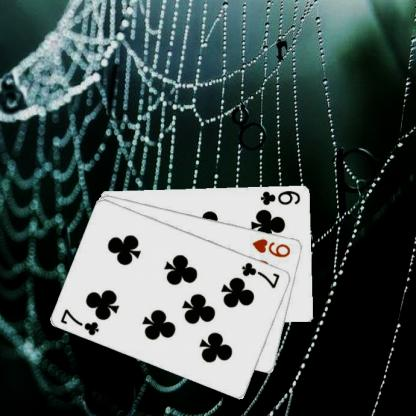6C: (258, 188, 302, 206)
7C: (58, 306, 101, 336), (240, 260, 282, 290)
9H: (249, 236, 292, 258)
